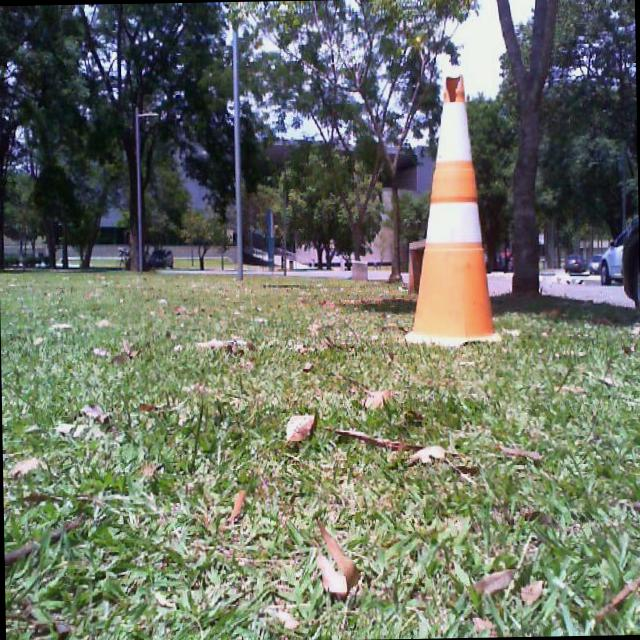Cone: (400, 72, 502, 346)
